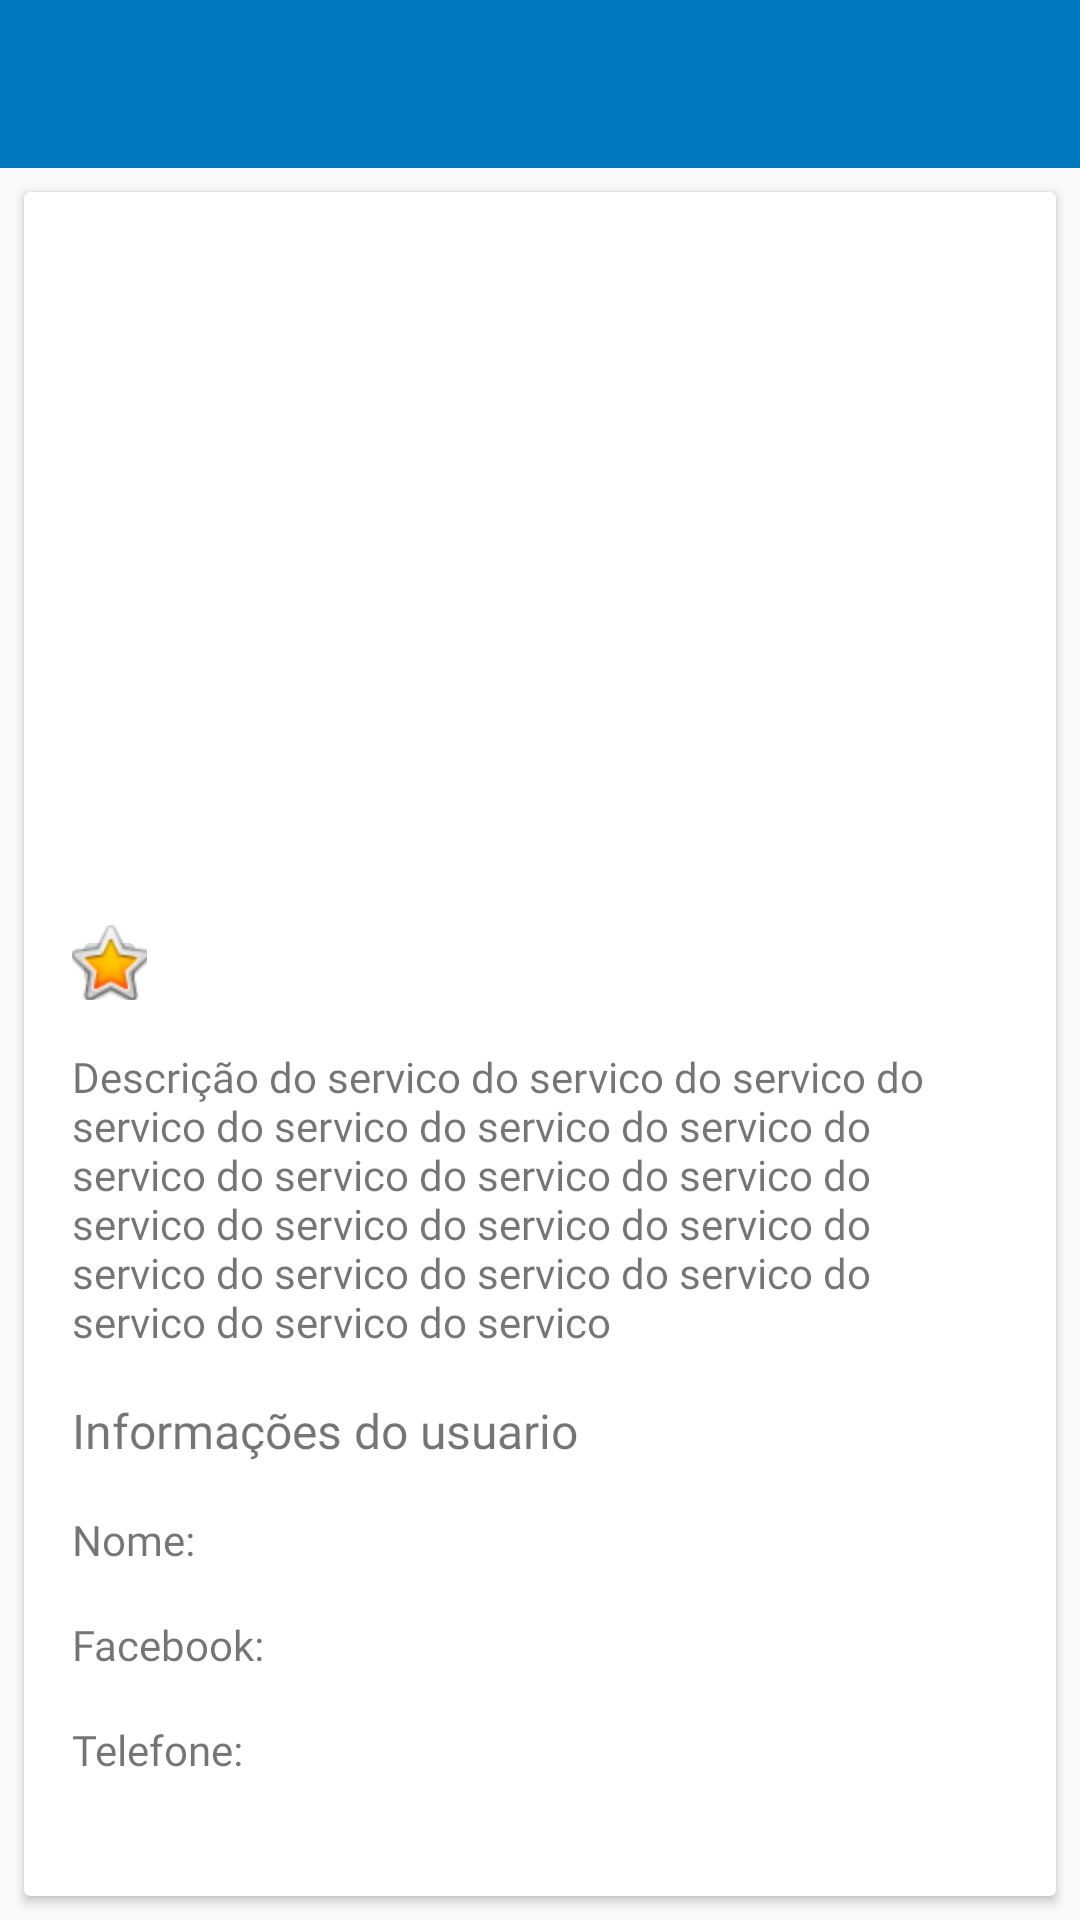

Screen size 1080*1920. Icon name, then its box in pixels as Rect(x1, y1, x2, y2):
star on: Rect(72, 925, 147, 1000)
